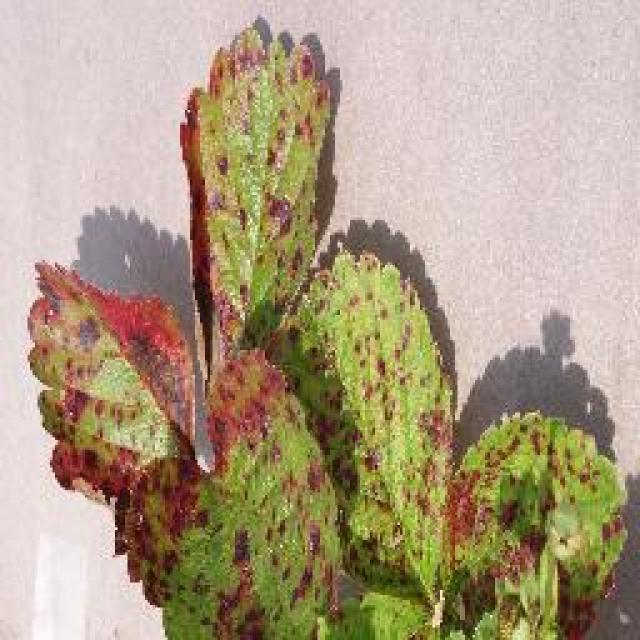Strawberry leaf scorch: (72, 297, 480, 603)
